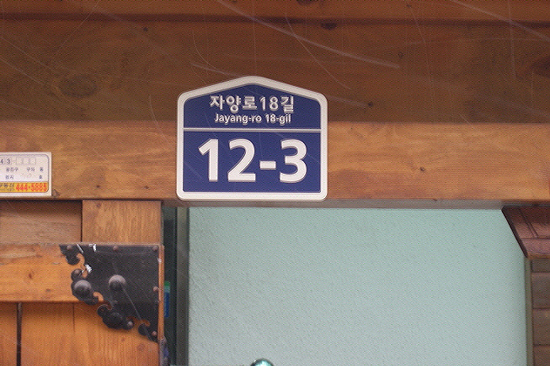building_license_plate1: (176, 75, 329, 202)
